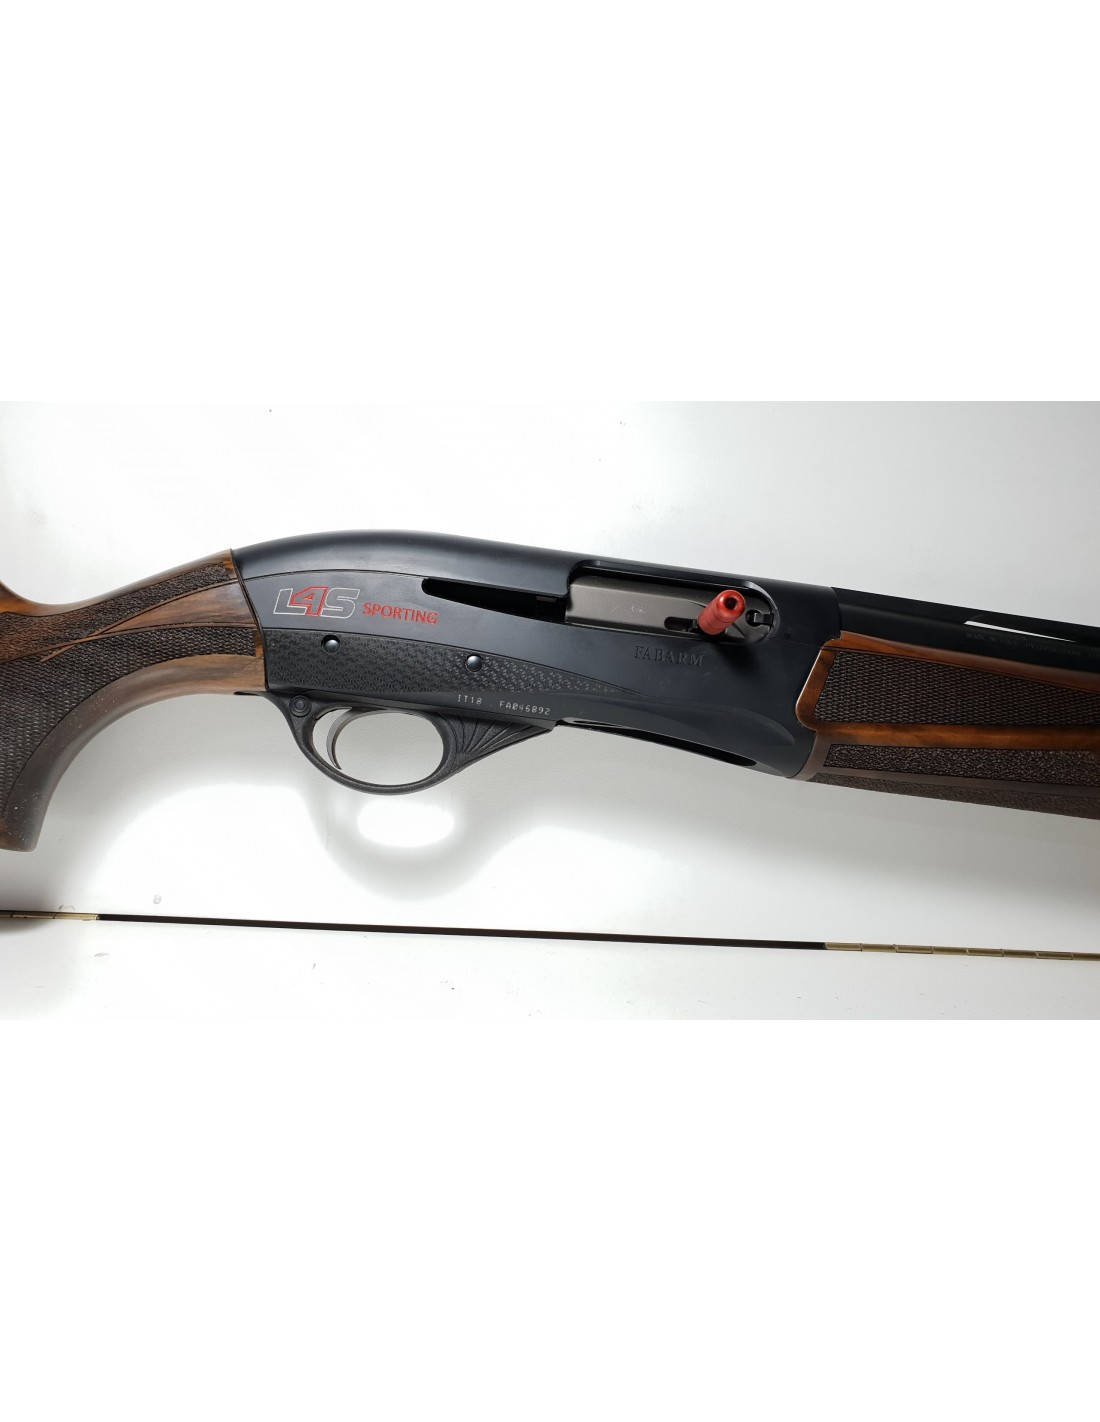weapon: (6, 512, 1100, 875)
